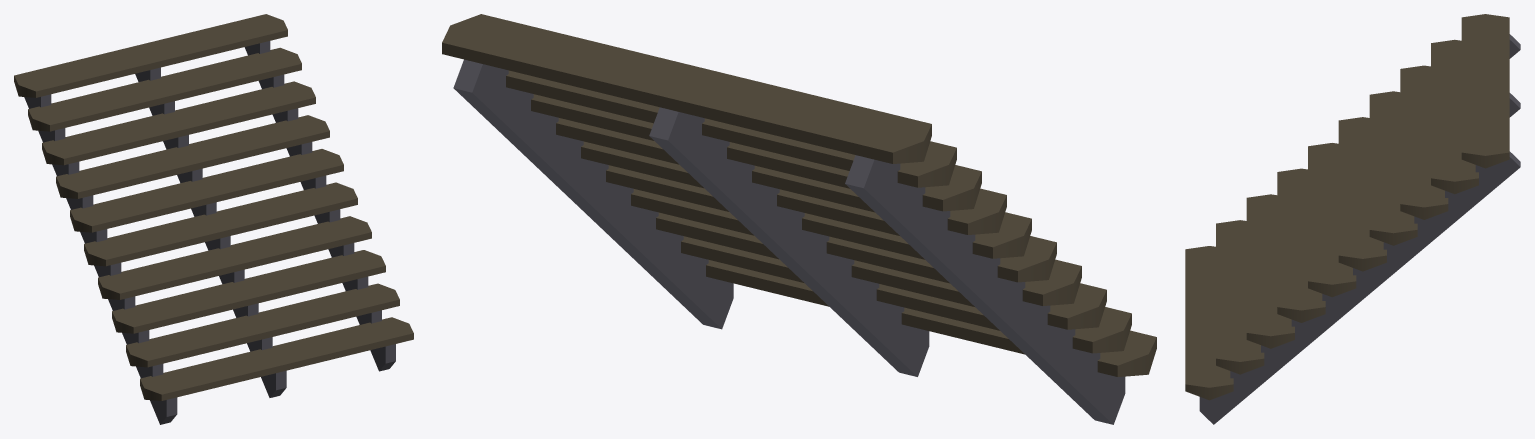
Rendered from LPSciFi_LongDoubleStairs.fbx.
3 renders of one model, left to right at view 1: azimuth 30°, elevation 25°; view 2: azimuth 150°, elevation 25°; view 3: azimuth 270°, elevation 25°, orthographic. The views are drawn at different scales.
Parts seen in each view (by area): view 1: LongDoubleStairs; view 2: LongDoubleStairs; view 3: LongDoubleStairs.
Boxes of the visible parts, box(x1,y1,x2,y2) form: LongDoubleStairs: box(14, 14, 413, 424); LongDoubleStairs: box(442, 14, 1156, 424); LongDoubleStairs: box(1185, 14, 1520, 424).
Size of the model in its own units: 235 by 215 by 235.
